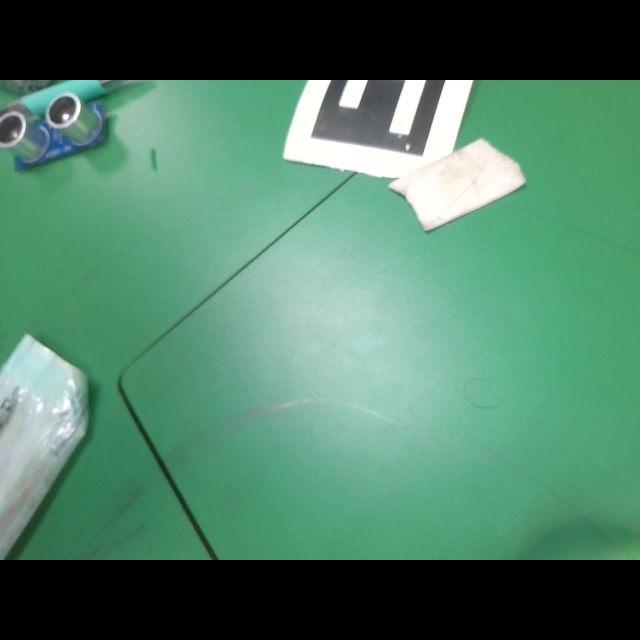ultrasonic_hc-sr04: (0, 80, 144, 170)
